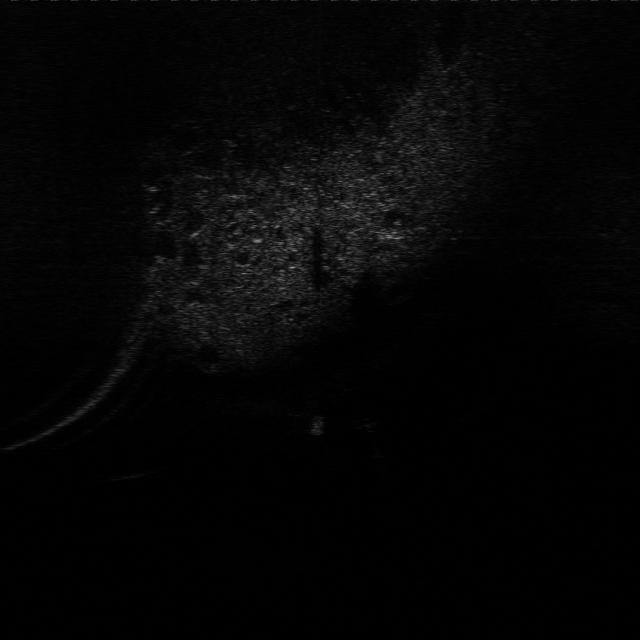cylinder: (306, 412, 328, 442)
